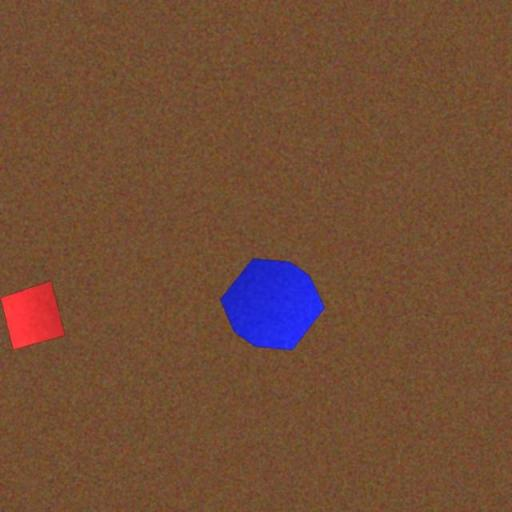RED_SQUARE: (0, 280, 66, 350)
